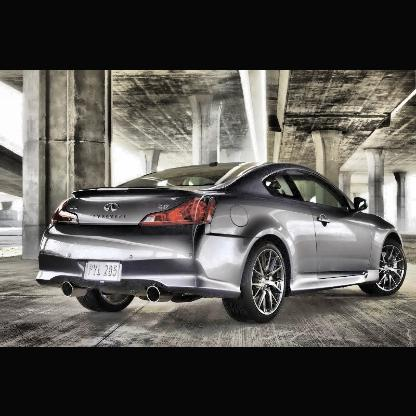Infiniti G Coupe IPL 2012: (36, 161, 408, 325)
